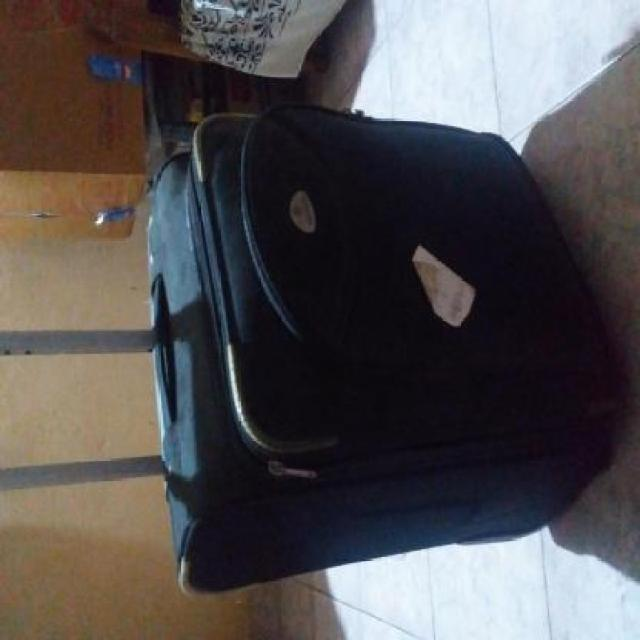backpack: (137, 97, 623, 601)
